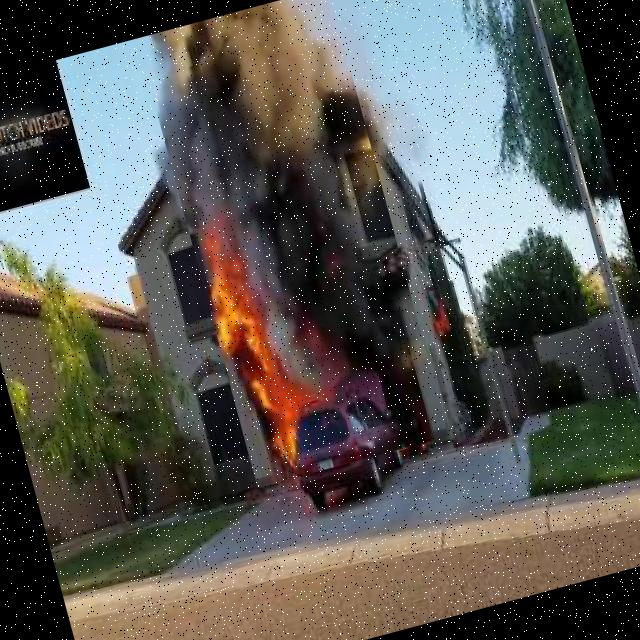fire: (136, 0, 448, 487)
